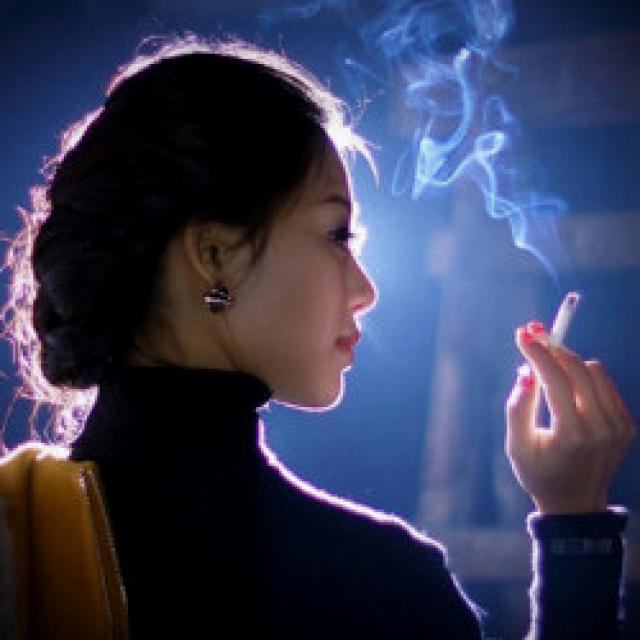Smooking: (544, 285, 584, 347)
